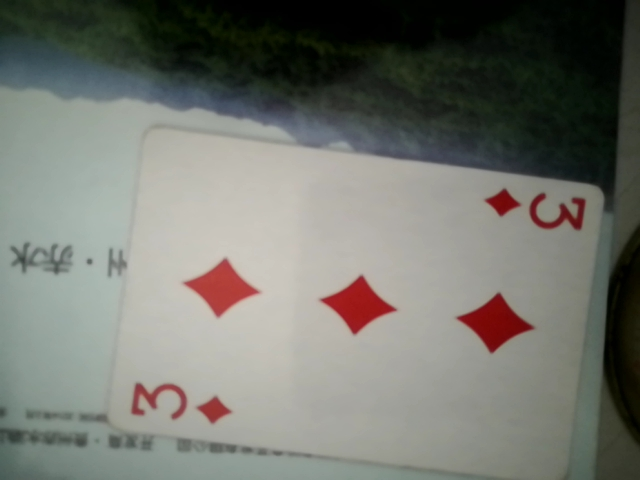fk 3: (96, 127, 616, 478)
